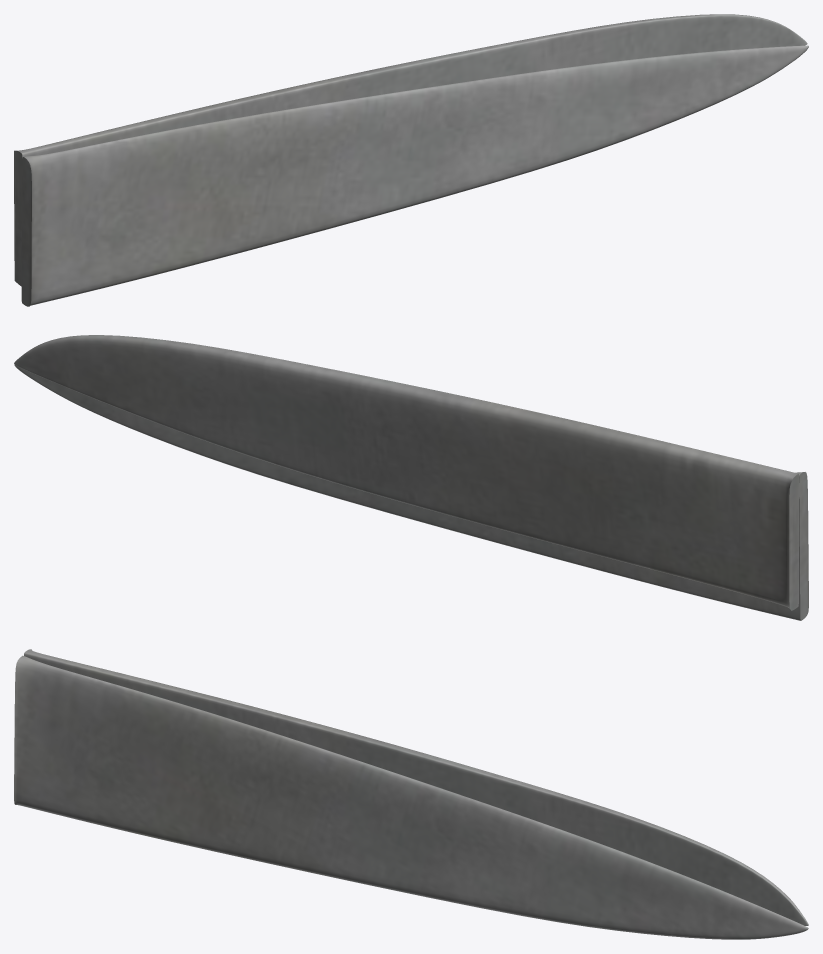
Rendered from Scissors2Blade.obj.
The picture shows the model from 3 angles, top to bottom: view 1: azimuth 30°, elevation 25°; view 2: azimuth 150°, elevation 25°; view 3: azimuth 330°, elevation 25°; orthographic projection.
Parts seen in each view (by area): view 1: Scissors2Blade; view 2: Scissors2Blade; view 3: Scissors2Blade.
Part boxes in pixels (x1,y1,x2,y2): Scissors2Blade: [14, 14, 808, 306]; Scissors2Blade: [14, 335, 808, 620]; Scissors2Blade: [14, 649, 808, 939].
Bounding box in the file's own units: 0.1352 × 0.0244 × 0.0055.
Materials: 1 (1 with a texture image).
